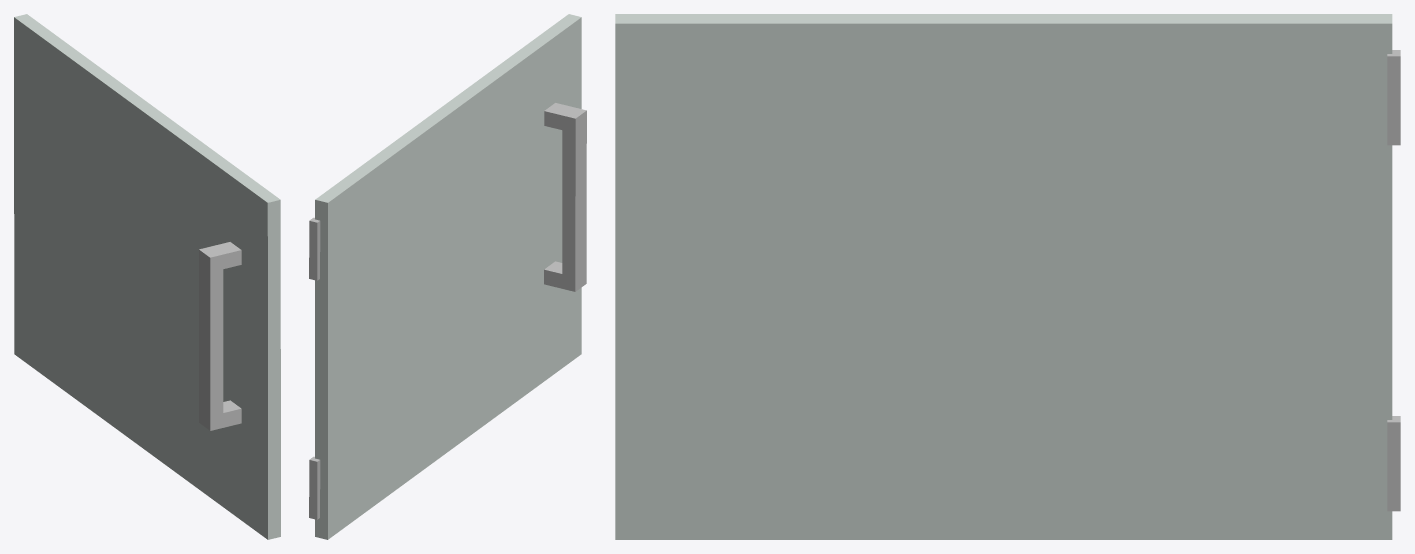
File: SM_Table_Door_A_02.fbx
3 renders of one model, left to right at view 1: azimuth 30°, elevation 25°; view 2: azimuth 150°, elevation 25°; view 3: azimuth 270°, elevation 25°, orthographic. The views are drawn at different scales.
Parts seen in each view (by area): view 1: SM_Table_Door_A_02; view 2: SM_Table_Door_A_02; view 3: SM_Table_Door_A_02.
Part boxes in pixels (x1,y1,x2,y2): SM_Table_Door_A_02: (14, 14, 280, 539); SM_Table_Door_A_02: (309, 14, 586, 539); SM_Table_Door_A_02: (615, 14, 1400, 539).
Size of the model in its own units: 3.94 by 26.72 by 36.85.
